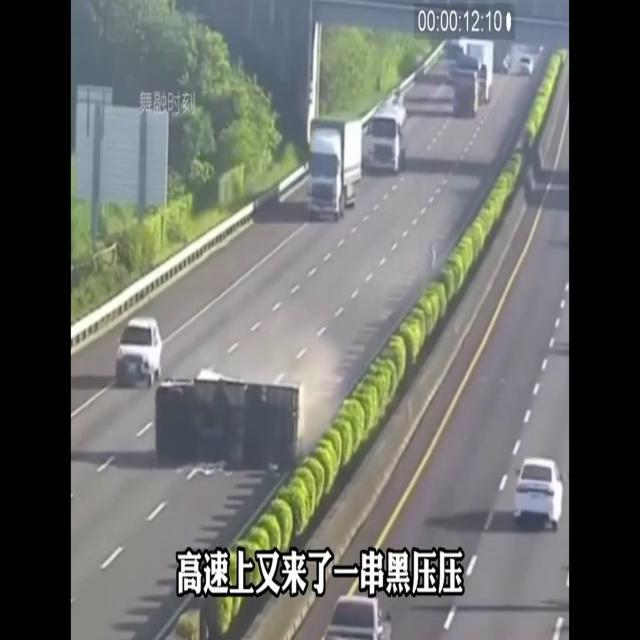normal: (317, 3, 569, 220), (483, 443, 577, 534), (89, 299, 160, 397)
single accident: (129, 365, 326, 473)
